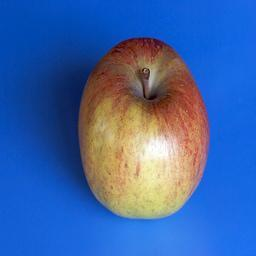apple: (78, 36, 210, 218)
